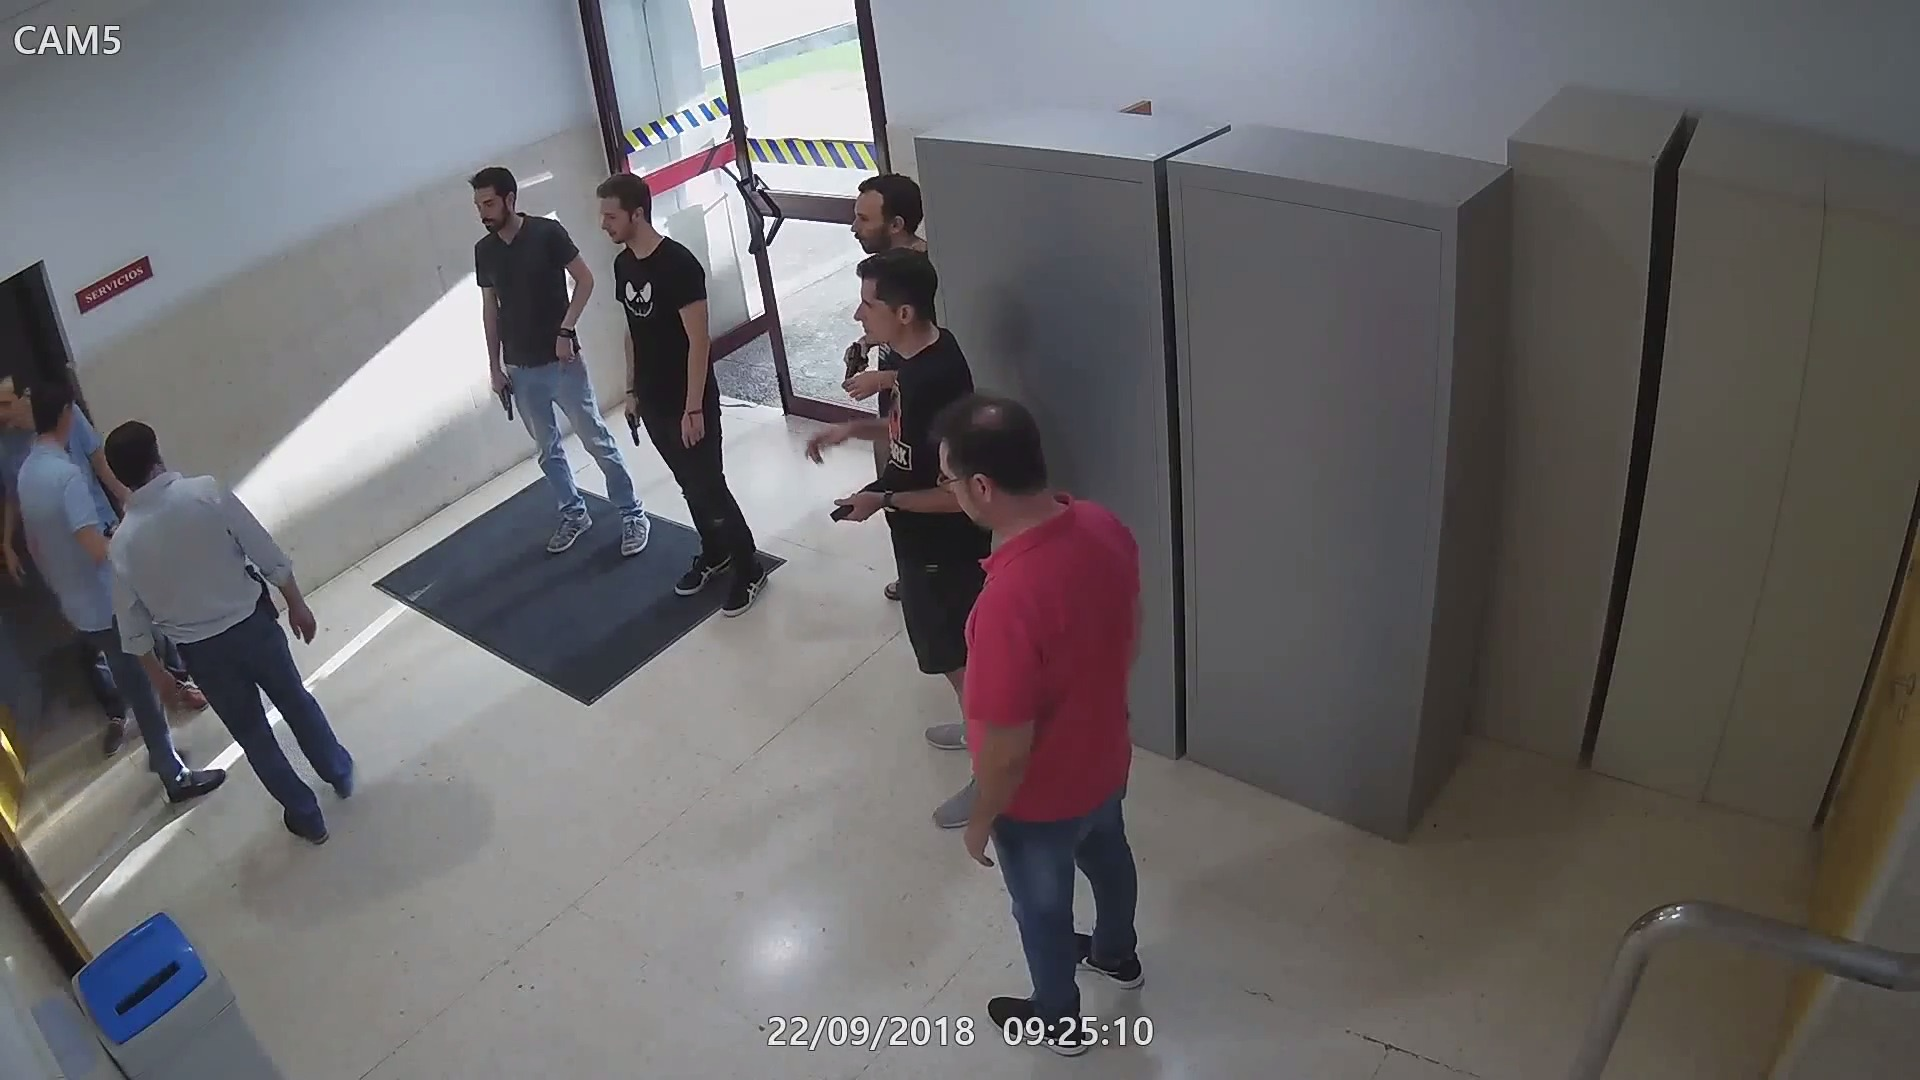pistol: (823, 469, 897, 530), (837, 331, 880, 397), (247, 563, 280, 622), (487, 371, 520, 425), (618, 392, 646, 450)
